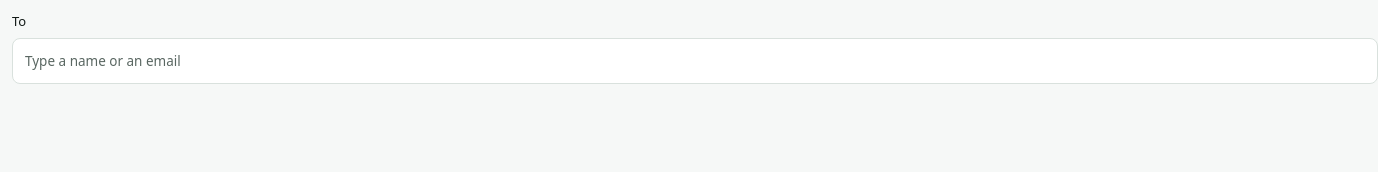
Test: RecipientPicker › is not fooled by text that is not an email
The width and height of the screenshot is (1378, 172).
Later steps or results of the test are not shown.
Type "zz" into the dropdown labelled "To".
click(695, 60); type("zz")  # box x1=19 y1=44 x2=1371 y2=76
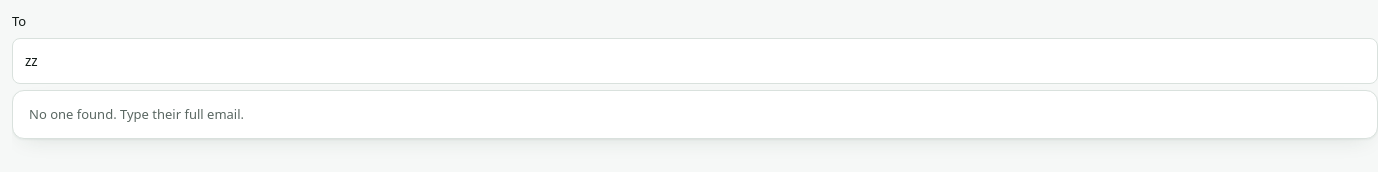
Expected: the list item "No one found. Type their full email." is shown, x1=29 y1=104 x2=244 y2=122
